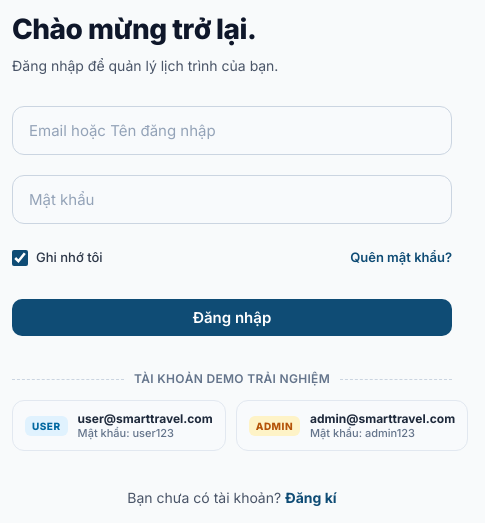
Test: Login.jsx › Validation (client-side) › hiển thị lỗi khi submit form trống
This screenshot has width=485, height=523.
Click the button "Đăng nhập" at (232, 318), box [12, 299, 452, 336]
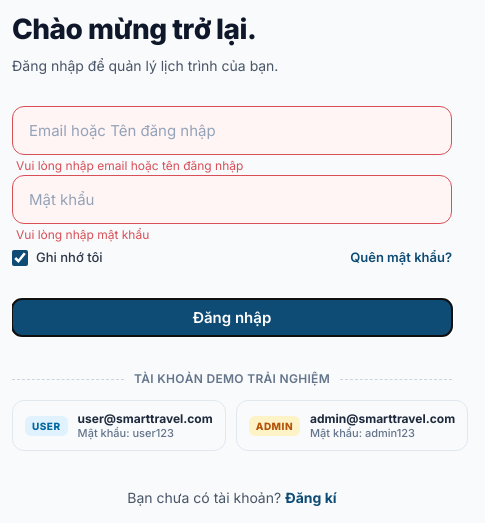
Check: the text "Vui lòng nhập email hoặc tên đăng nhập" is shown, box [16, 157, 243, 175]
